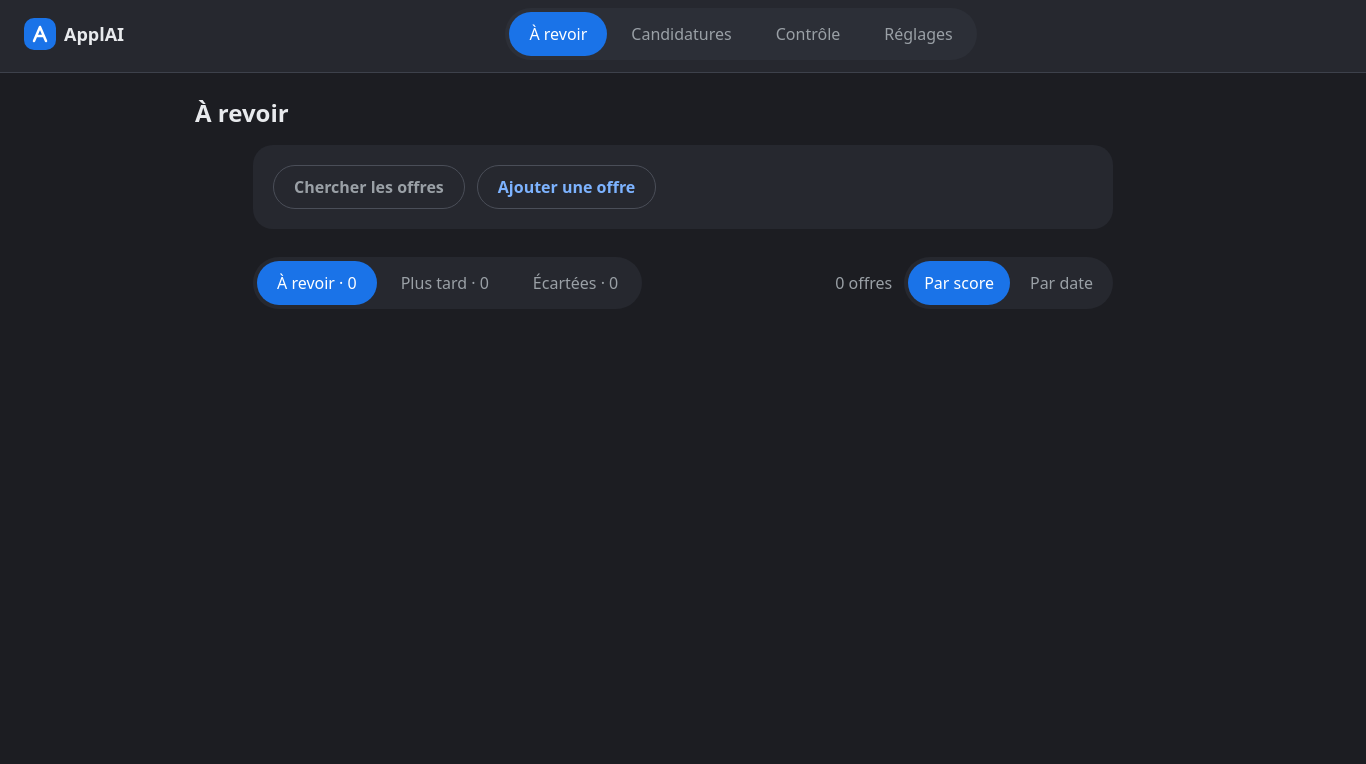
the trace of an application › ends with the time and the estimated cost of the whole application
Click the button "Candidatures" at coordinates (682, 34), box [611,12,752,56]
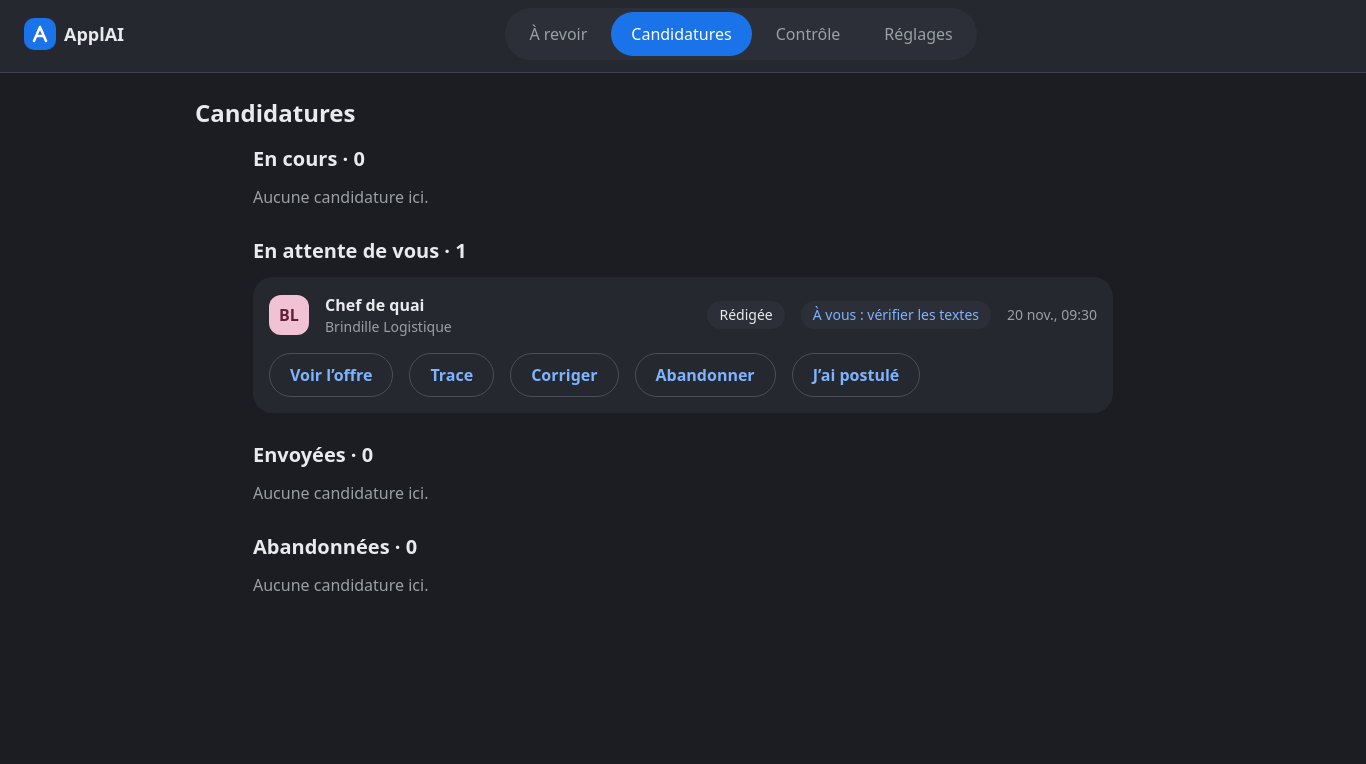
Click the button "Trace" at coordinates (452, 375), box [409,353,494,397]
(page scrolled)
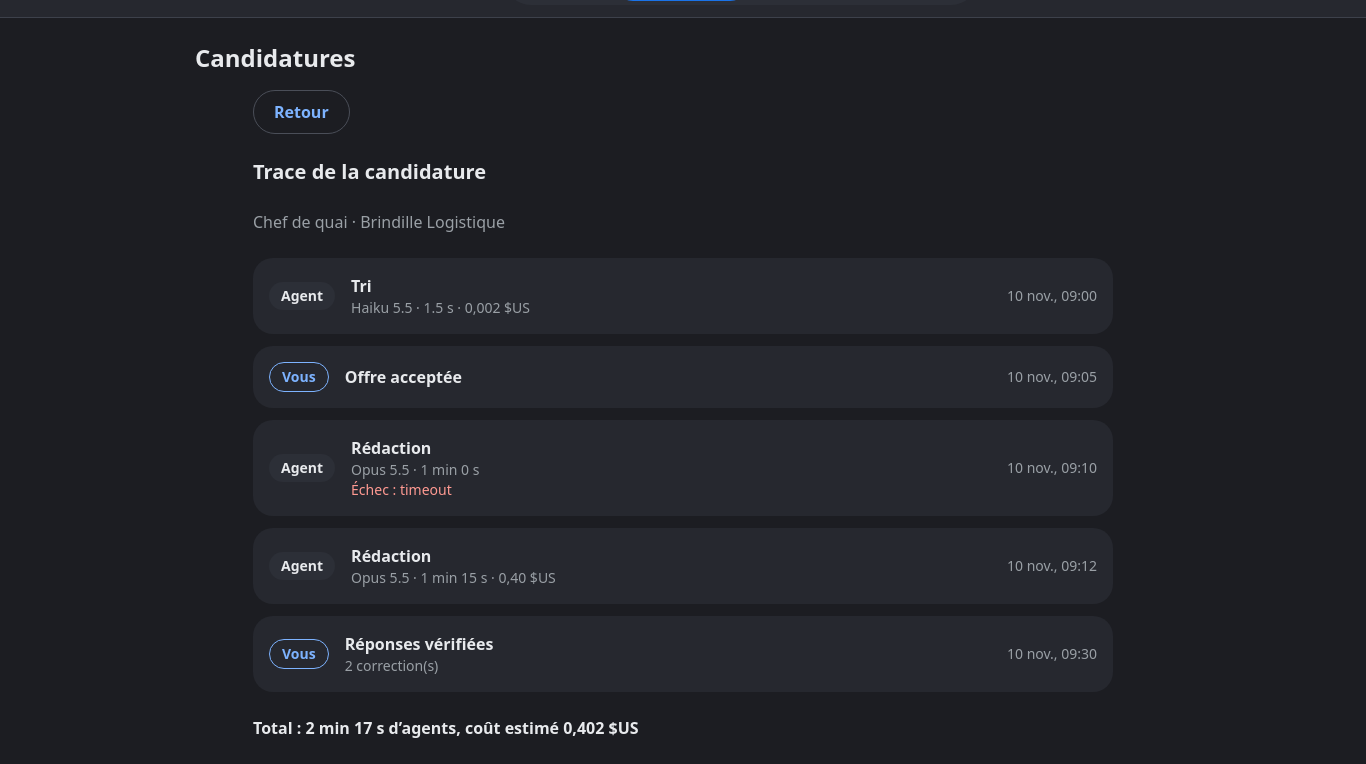
Expected: the text with test id "trace-total" shows "2 min 17 s", [253,717,639,739]
Expected: the text with test id "trace-total" reads "Total : 2 min 17 s d’agents, coût estimé 0,402 $US", [253,717,639,739]
